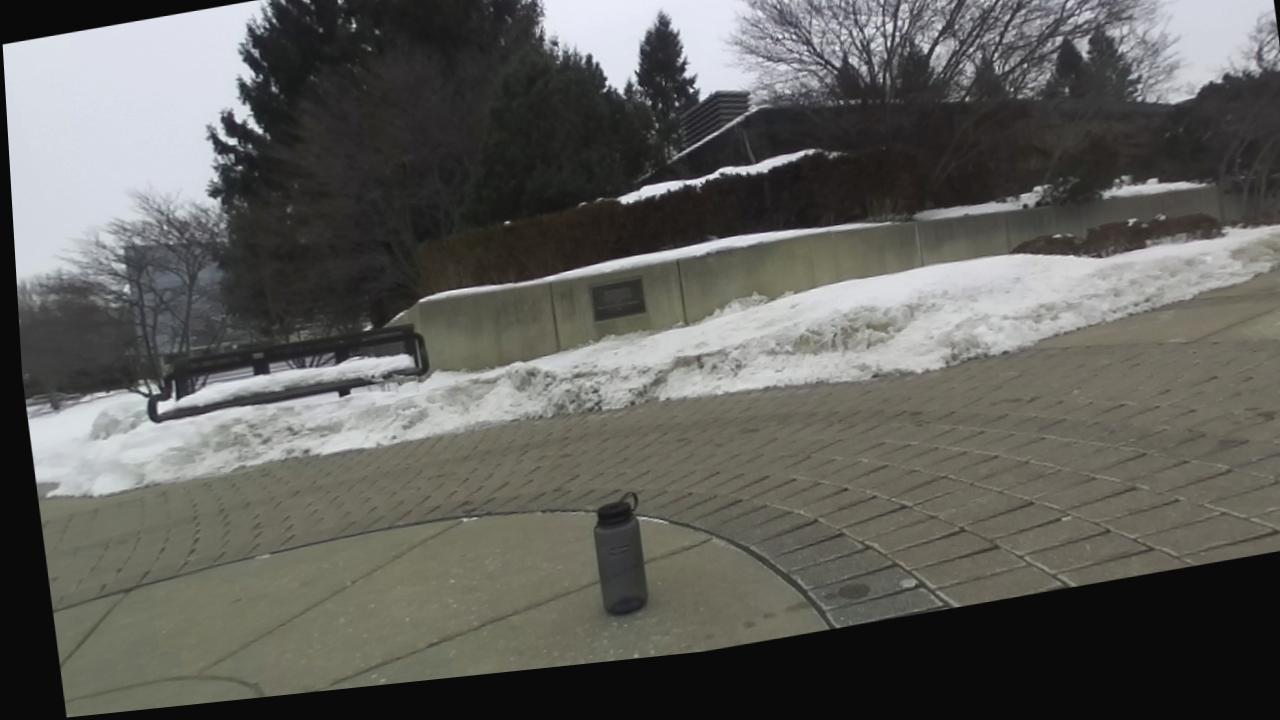bottle: (593, 492, 647, 614)
